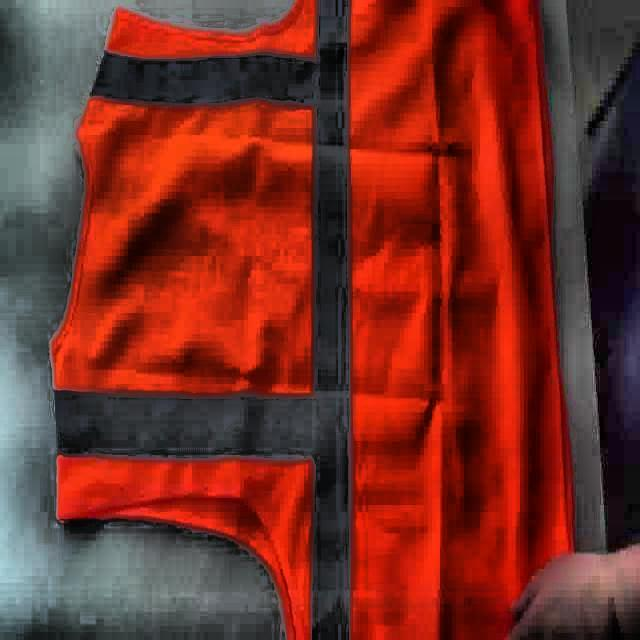safety_jacket: (48, 0, 576, 640)
